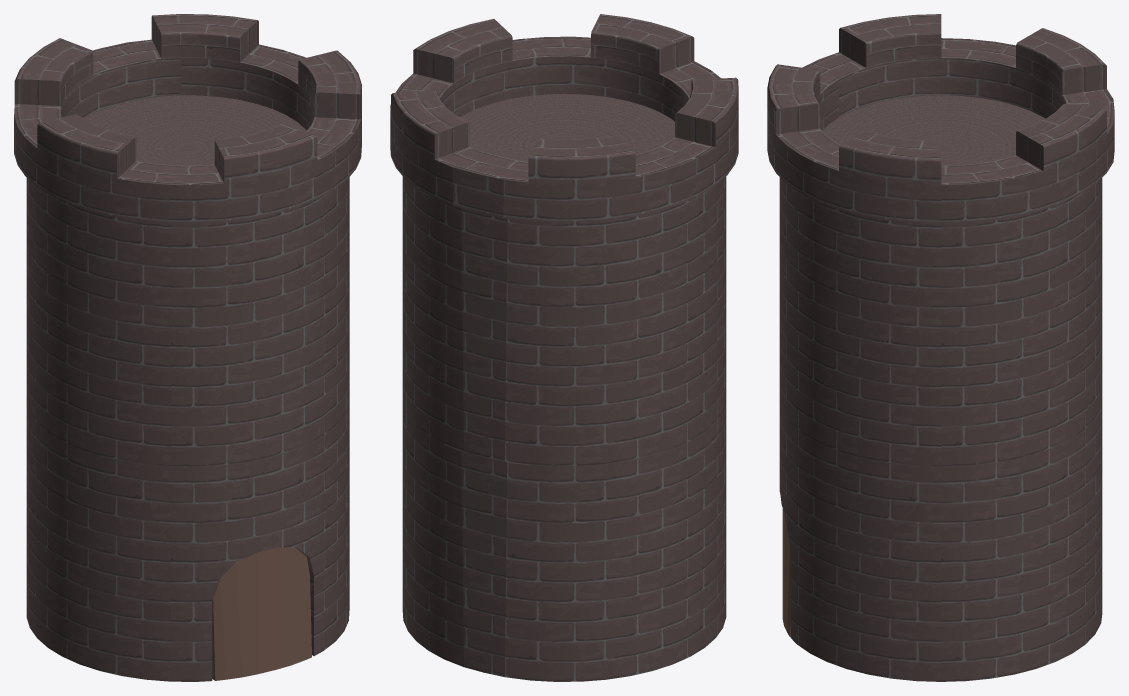
File: Castle.fbx
The picture shows the model from 3 angles, left to right: view 1: azimuth 30°, elevation 25°; view 2: azimuth 150°, elevation 25°; view 3: azimuth 270°, elevation 25°; orthographic projection.
Parts seen in each view (by area): view 1: Thanh, Cong_thanh; view 2: Thanh; view 3: Thanh, Cong_thanh.
Boxes of the visible parts, bbox=[...] form: Thanh: bbox=[14, 14, 361, 681]; Cong_thanh: bbox=[212, 547, 311, 680]; Thanh: bbox=[390, 14, 738, 681]; Thanh: bbox=[767, 14, 1114, 681]; Cong_thanh: bbox=[782, 508, 790, 637].
Bounding box in the file's own units: 969 × 1618 × 967.
